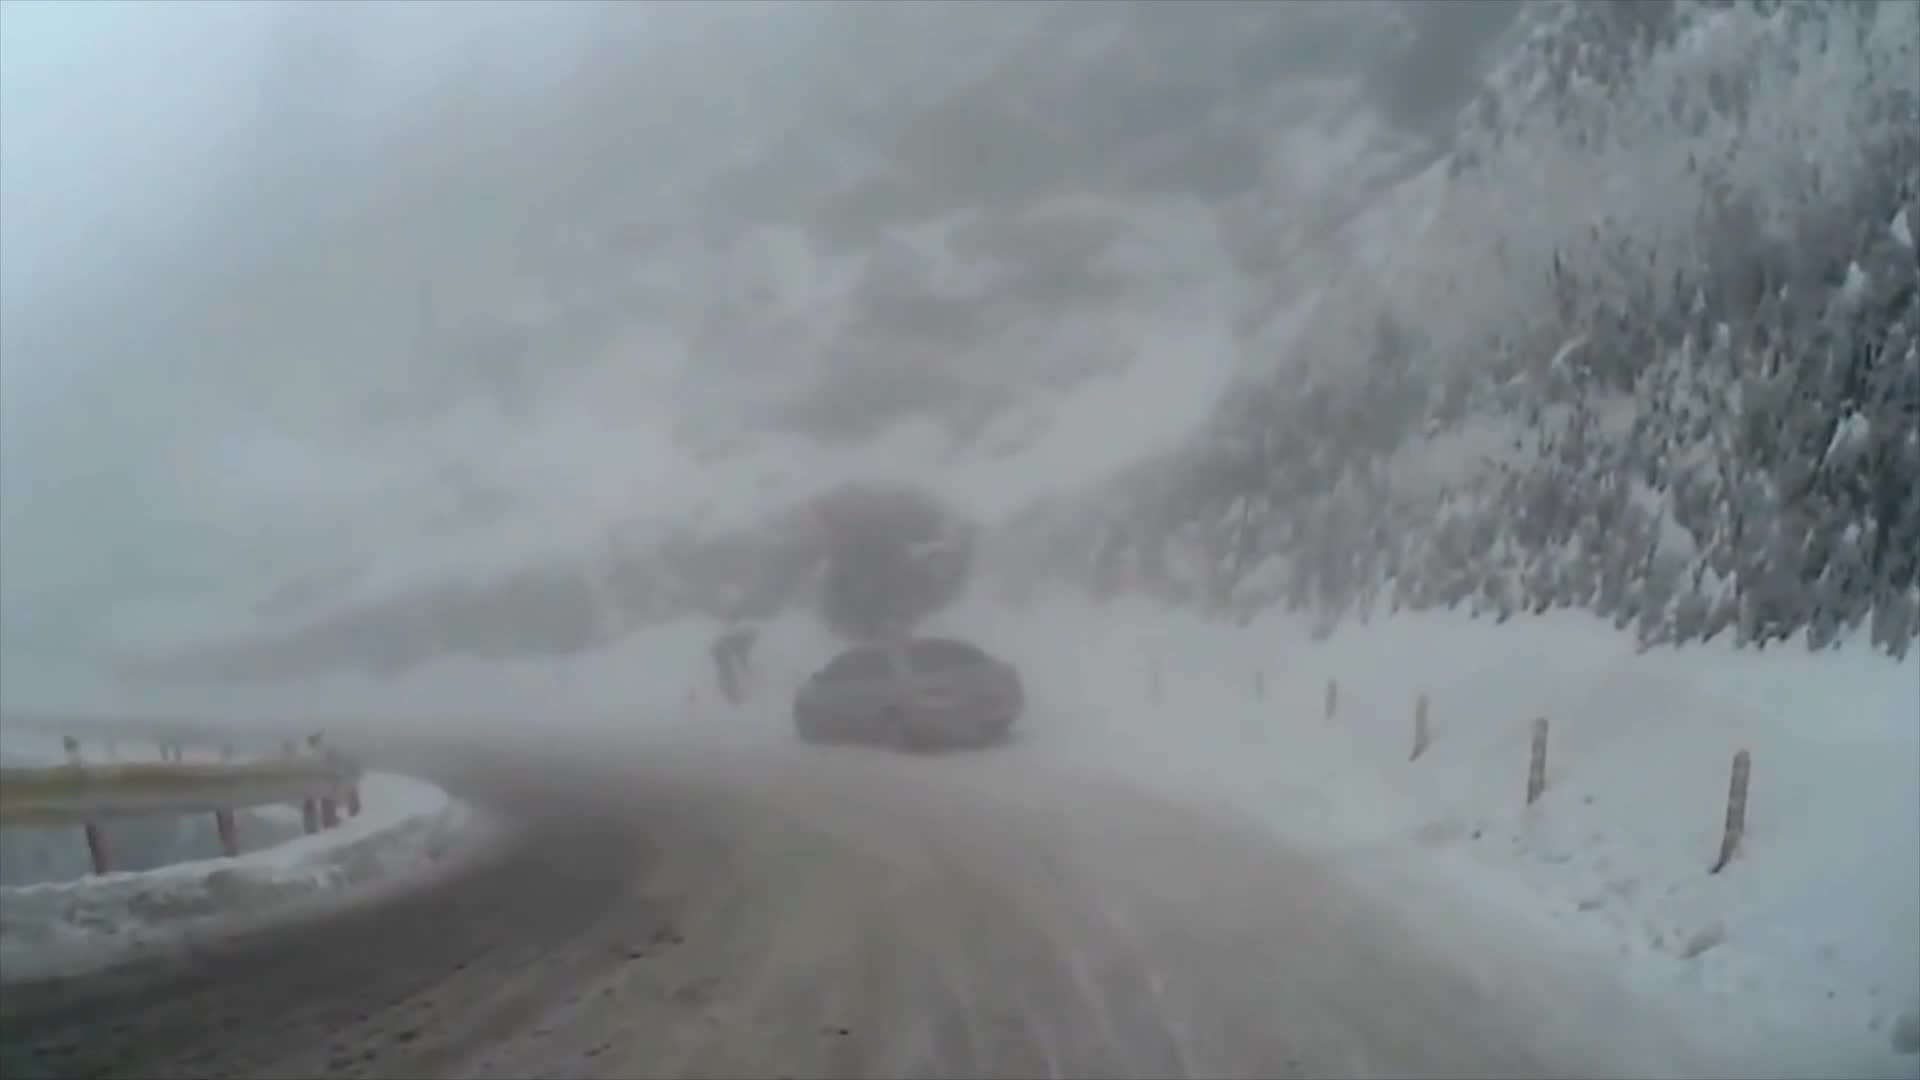pedestrian: (717, 630, 759, 708)
vehicle: (796, 639, 1027, 758)
